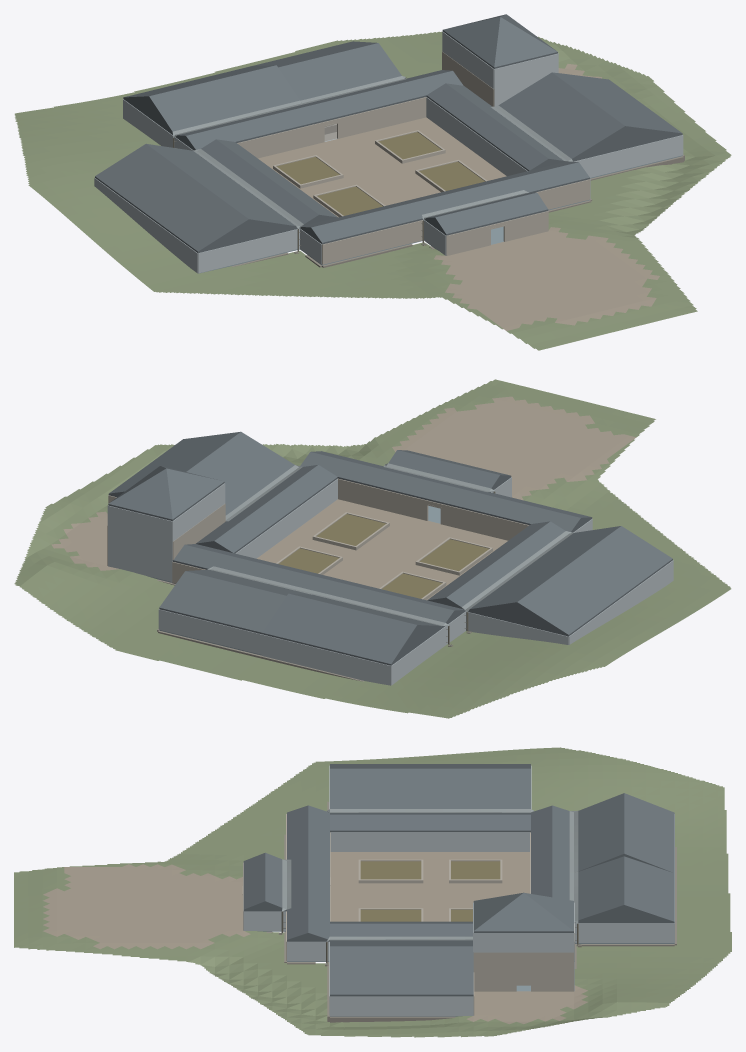
File: monastery-with-roof-valleys.glb
The picture shows the model from 3 angles, top to bottom: view 1: azimuth 30°, elevation 25°; view 2: azimuth 150°, elevation 25°; view 3: azimuth 270°, elevation 25°; orthographic projection. The views are drawn at different scales.
Parts seen in each view (by area): view 1: WLD-10 saved ground, dormitory roof west, refectory roof west, archive roof south, north-cloister roof south, south-cloister roof south, vestry roof south, dormitory roof east, east-cloister roof west, refectory roof east, west-cloister roof west, gatehouse roof south (+32 smaller); view 2: WLD-10 saved ground, dormitory roof west, archive roof north, south-cloister roof north, vestry roof north, north-cloister roof north, refectory roof west, dormitory roof east, east-cloister roof west, Wall archive N, Wall tower-base N, west-cloister roof west (+32 smaller); view 3: WLD-10 saved ground, dormitory roof east, refectory roof east, Wall west E, west-cloister roof east, archive roof north, archive roof south, Wall refectory E, south-cloister roof north, south-cloister roof south, vestry roof north, vestry roof south (+26 smaller).
Boxes of the visible parts, bbox=[...] form: WLD-10 saved ground: bbox=[14, 31, 731, 350]; dormitory roof west: bbox=[95, 144, 248, 252]; refectory roof west: bbox=[498, 72, 625, 159]; archive roof south: bbox=[149, 65, 299, 132]; north-cloister roof south: bbox=[186, 71, 463, 149]; south-cloister roof south: bbox=[311, 162, 589, 244]; vestry roof south: bbox=[278, 43, 401, 100]; dormitory roof east: bbox=[146, 143, 296, 227]; east-cloister roof west: bbox=[426, 83, 548, 170]; refectory roof east: bbox=[552, 72, 682, 134]; west-cloister roof west: bbox=[201, 139, 319, 226]; gatehouse roof south: bbox=[435, 192, 548, 235]; WLD-10 saved ground: bbox=[14, 379, 731, 718]; dormitory roof west: bbox=[517, 526, 672, 636]; archive roof north: bbox=[262, 593, 417, 665]; south-cloister roof north: bbox=[300, 452, 580, 532]; vestry roof north: bbox=[159, 571, 286, 633]; north-cloister roof north: bbox=[172, 544, 454, 626]; refectory roof west: bbox=[186, 432, 294, 515]; dormitory roof east: bbox=[469, 526, 620, 610]; east-cloister roof west: bbox=[214, 465, 337, 553]; Wall archive N: bbox=[262, 634, 391, 685]; Wall tower-base N: bbox=[108, 526, 172, 581]; west-cloister roof west: bbox=[446, 521, 565, 609]; WLD-10 saved ground: bbox=[14, 747, 731, 1037]; dormitory roof east: bbox=[330, 768, 530, 808]; refectory roof east: bbox=[330, 946, 473, 995]; Wall west E: bbox=[330, 832, 529, 851]; west-cloister roof east: bbox=[330, 814, 530, 832]; archive roof north: bbox=[624, 793, 674, 872]; archive roof south: bbox=[578, 793, 624, 871]; Wall refectory E: bbox=[330, 996, 473, 1015]; south-cloister roof north: bbox=[308, 805, 329, 941]; south-cloister roof south: bbox=[287, 805, 308, 941]; vestry roof north: bbox=[624, 856, 674, 922]; vestry roof south: bbox=[578, 856, 624, 921].
Size of the model in its own units: 92 by 16 by 100.
